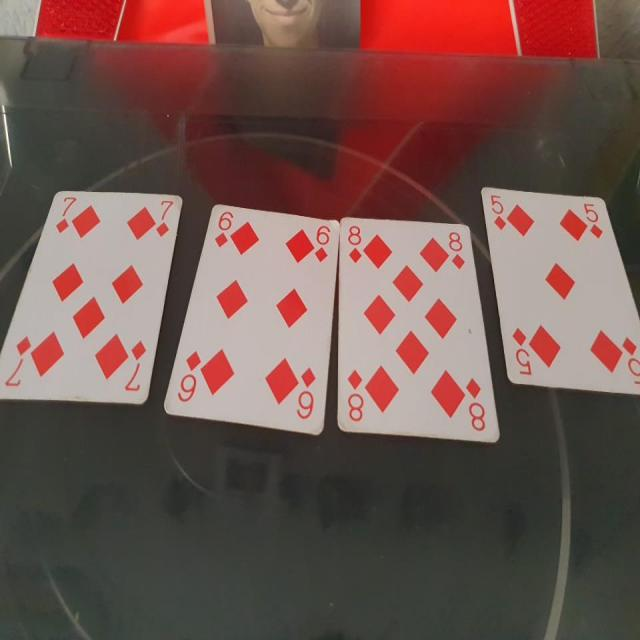5 Diamonds: (480, 181, 640, 385)
6 Diamonds: (162, 202, 335, 433)
7 Diamonds: (1, 188, 183, 404)
8 Diamonds: (339, 211, 503, 448)
